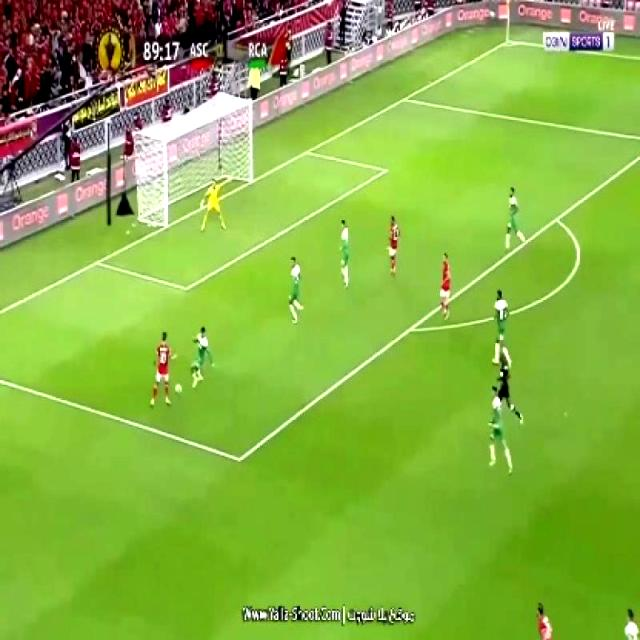bigarea_bottom_inner: (229, 443, 248, 474)
bigarea_top_outter: (397, 92, 409, 106)
bottom_arc_area_intersection: (403, 318, 417, 338)
corner: (503, 37, 517, 46)
smallarea_bottom_inner: (178, 276, 194, 298)
smallarea_bottom_outter: (90, 251, 105, 271)
smallarea_top_inner: (379, 164, 391, 178)
smallarea_top_outter: (301, 144, 314, 158)
top_arc_area_intersection: (550, 210, 564, 228)
